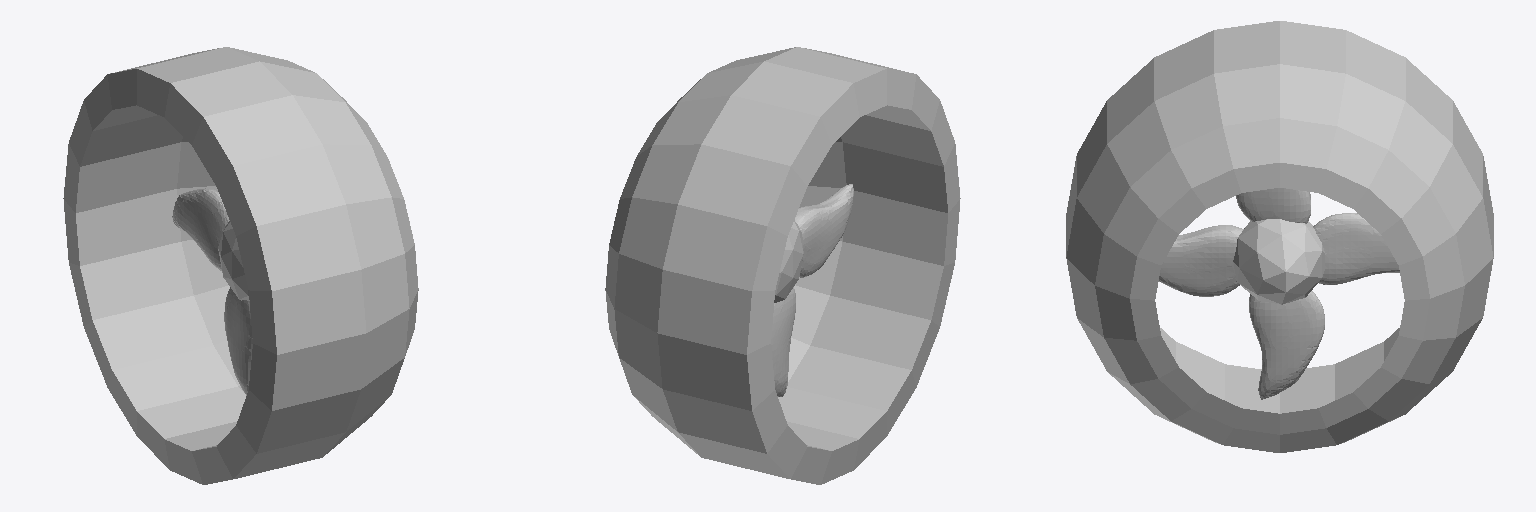
The model's file is Option20_P.obj.
The picture shows the model from 3 angles: view 1: azimuth 30°, elevation 25°; view 2: azimuth 150°, elevation 25°; view 3: azimuth 270°, elevation 25°; orthographic projection.
Parts seen in each view (by area): view 1: propeller; view 2: propeller; view 3: propeller.
Boxes of the visible parts, box(x1,y1,x2,y2) form: propeller: box(63, 47, 418, 484); propeller: box(605, 47, 960, 484); propeller: box(1066, 21, 1493, 452).
Size of the model in its own units: 0.6081 by 1.23 by 1.23.